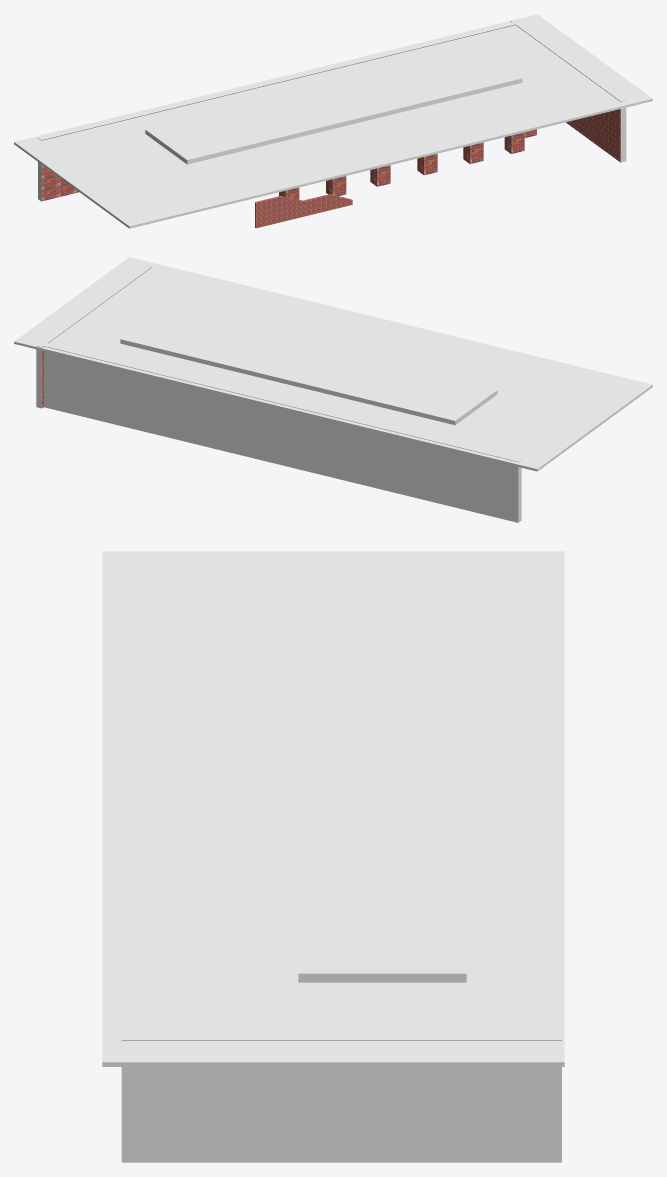
The model's file is pared2.obj.
The picture shows the model from 3 angles, top to bottom: view 1: azimuth 30°, elevation 25°; view 2: azimuth 150°, elevation 25°; view 3: azimuth 270°, elevation 25°; orthographic projection. The views are drawn at different scales.
Parts seen in each view (by area): view 1: pCube18, pCube17, pCube13, pCube14, pPlane12, escenario:pPlane14 escenario:polySurface1 group polySurface4, escenario:pPlane16 escenario:polySurface1 group polySurface6, escenario:pPlane15 escenario:polySurface1 group polySurface5, escenario:pPlane13 escenario:polySurface1 group polySurface3, escenario:pPlane17 escenario:polySurface1 group polySurface7; view 2: pCube18, pCube13, pCube17, pCube14; view 3: pCube18, pCube17, pCube14, pCube13.
Boxes of the visible parts, <box> form: pCube18: <box>14,14,652,228</box>; pCube17: <box>145,48,522,164</box>; pCube13: <box>38,22,515,201</box>; pCube14: <box>510,19,626,162</box>; pPlane12: <box>255,194,352,228</box>; escenario:pPlane14 escenario:polySurface1 group polySurface4: <box>463,142,483,163</box>; escenario:pPlane16 escenario:polySurface1 group polySurface6: <box>370,165,390,186</box>; escenario:pPlane15 escenario:polySurface1 group polySurface5: <box>417,153,437,175</box>; escenario:pPlane13 escenario:polySurface1 group polySurface3: <box>504,132,524,153</box>; escenario:pPlane17 escenario:polySurface1 group polySurface7: <box>326,176,346,196</box>; pCube18: <box>14,257,652,471</box>; pCube13: <box>43,343,521,522</box>; pCube17: <box>120,308,497,425</box>; pCube14: <box>36,265,151,408</box>; pCube18: <box>102,551,564,1066</box>; pCube17: <box>298,646,466,982</box>; pCube14: <box>121,1034,561,1162</box>; pCube13: <box>541,571,554,1035</box>.
Bounding box in the file's own units: 22.53 × 2.68 × 8.61.
5 materials, 4 textured.
